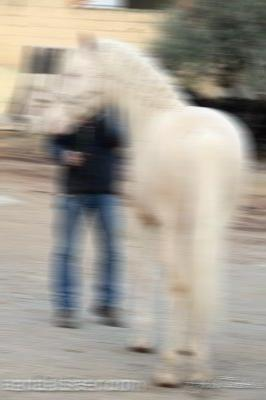horse: (44, 29, 252, 386)
